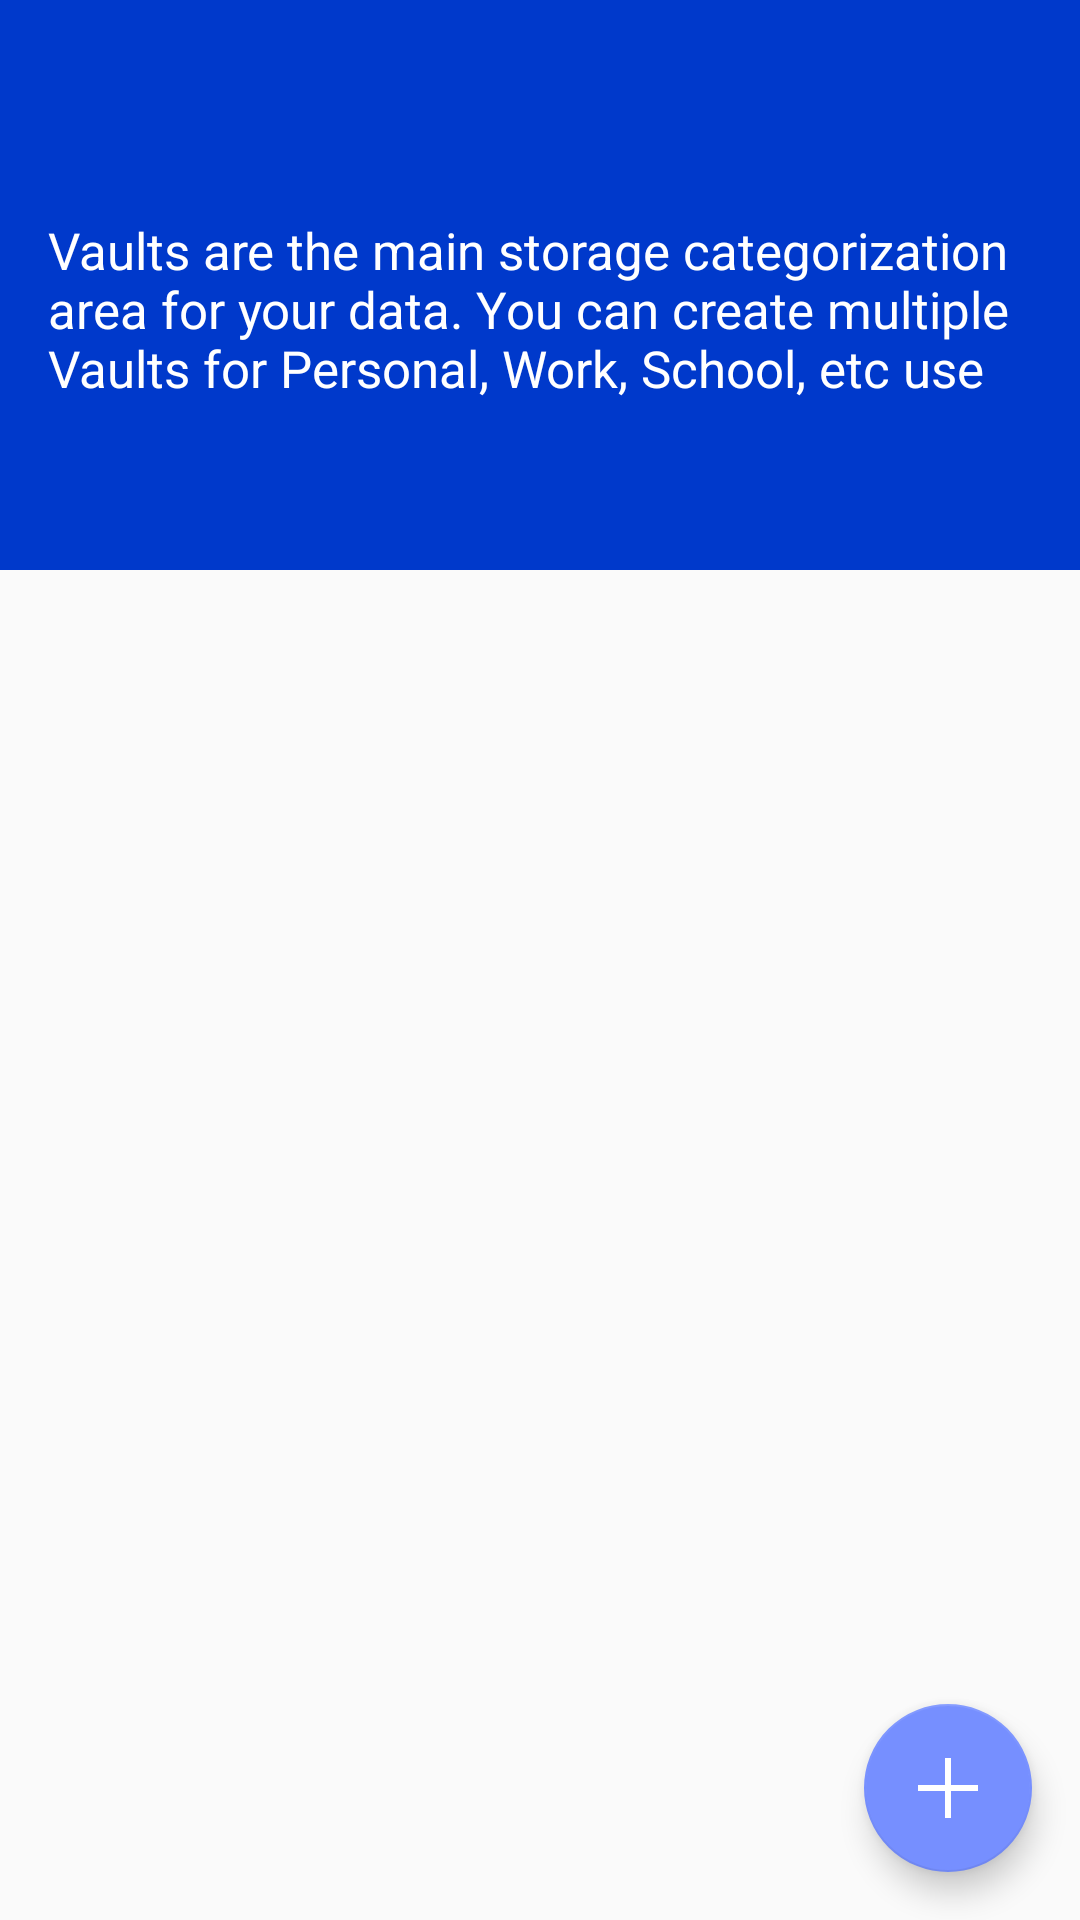

Named icons in this screenshot (1080 × 1920) and their centers, (x=x, y=y):
plus: (x=948, y=1788)
